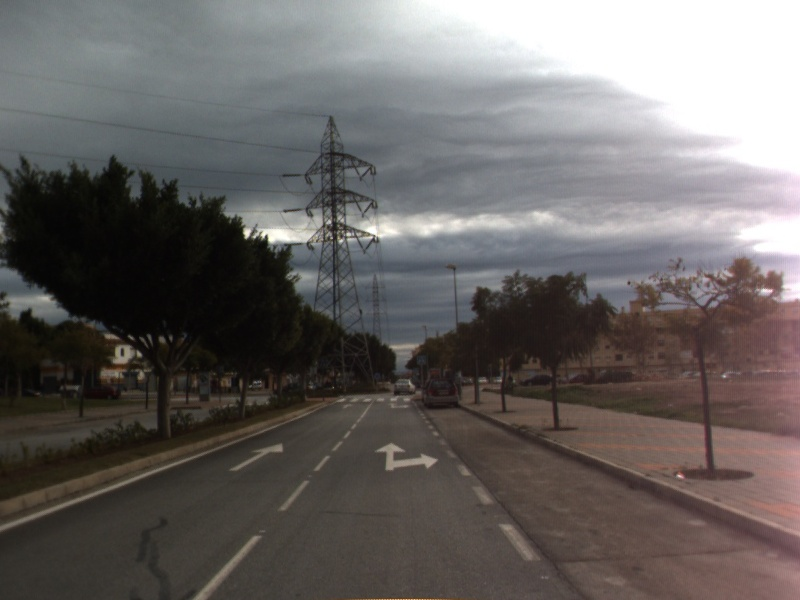STRAIGHT: (226, 441, 285, 473), (341, 402, 356, 410)
STRAIGHT_RIGHT: (372, 441, 441, 473), (386, 401, 412, 410)
